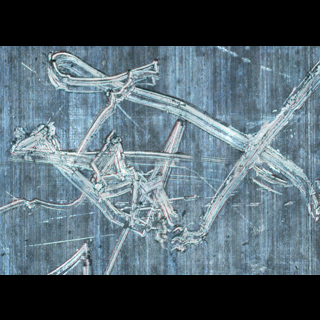d: (170, 73, 320, 244), (76, 123, 204, 253), (38, 49, 169, 112), (4, 116, 80, 171), (0, 179, 88, 214), (39, 232, 103, 274)
